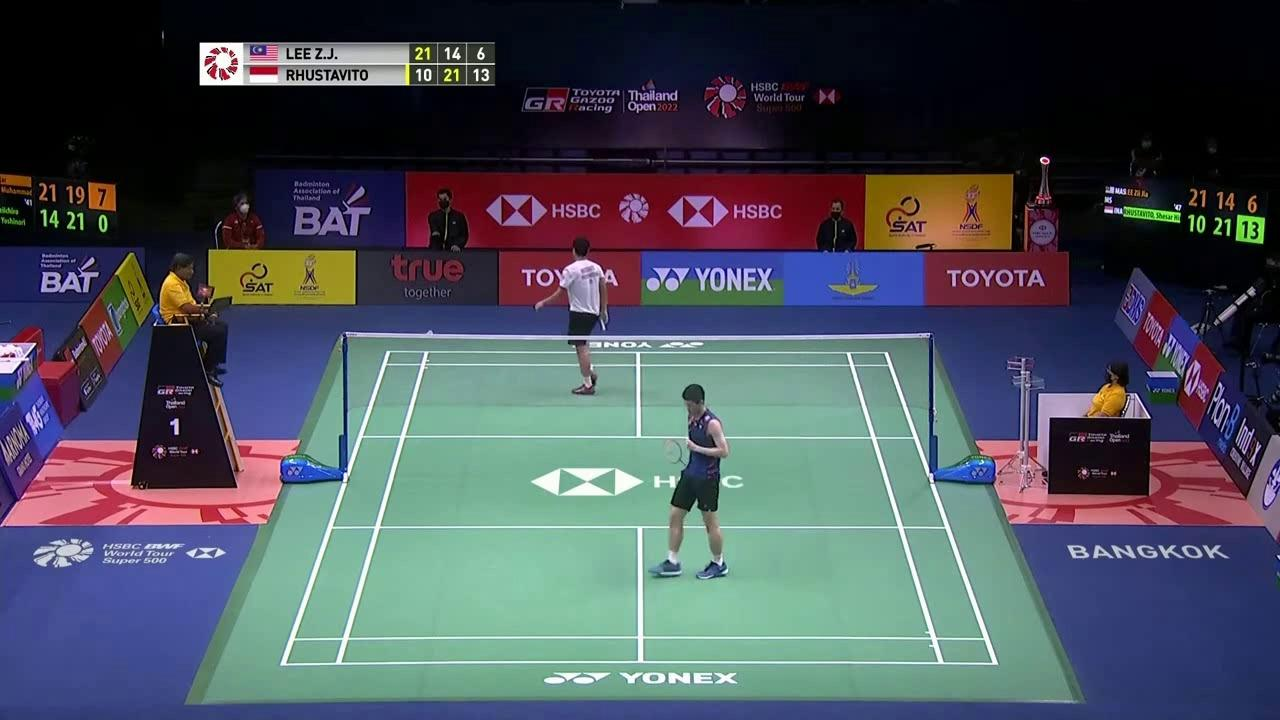racket: (662, 438, 689, 468), (598, 315, 608, 332)
shuttle: (426, 330, 434, 338)
